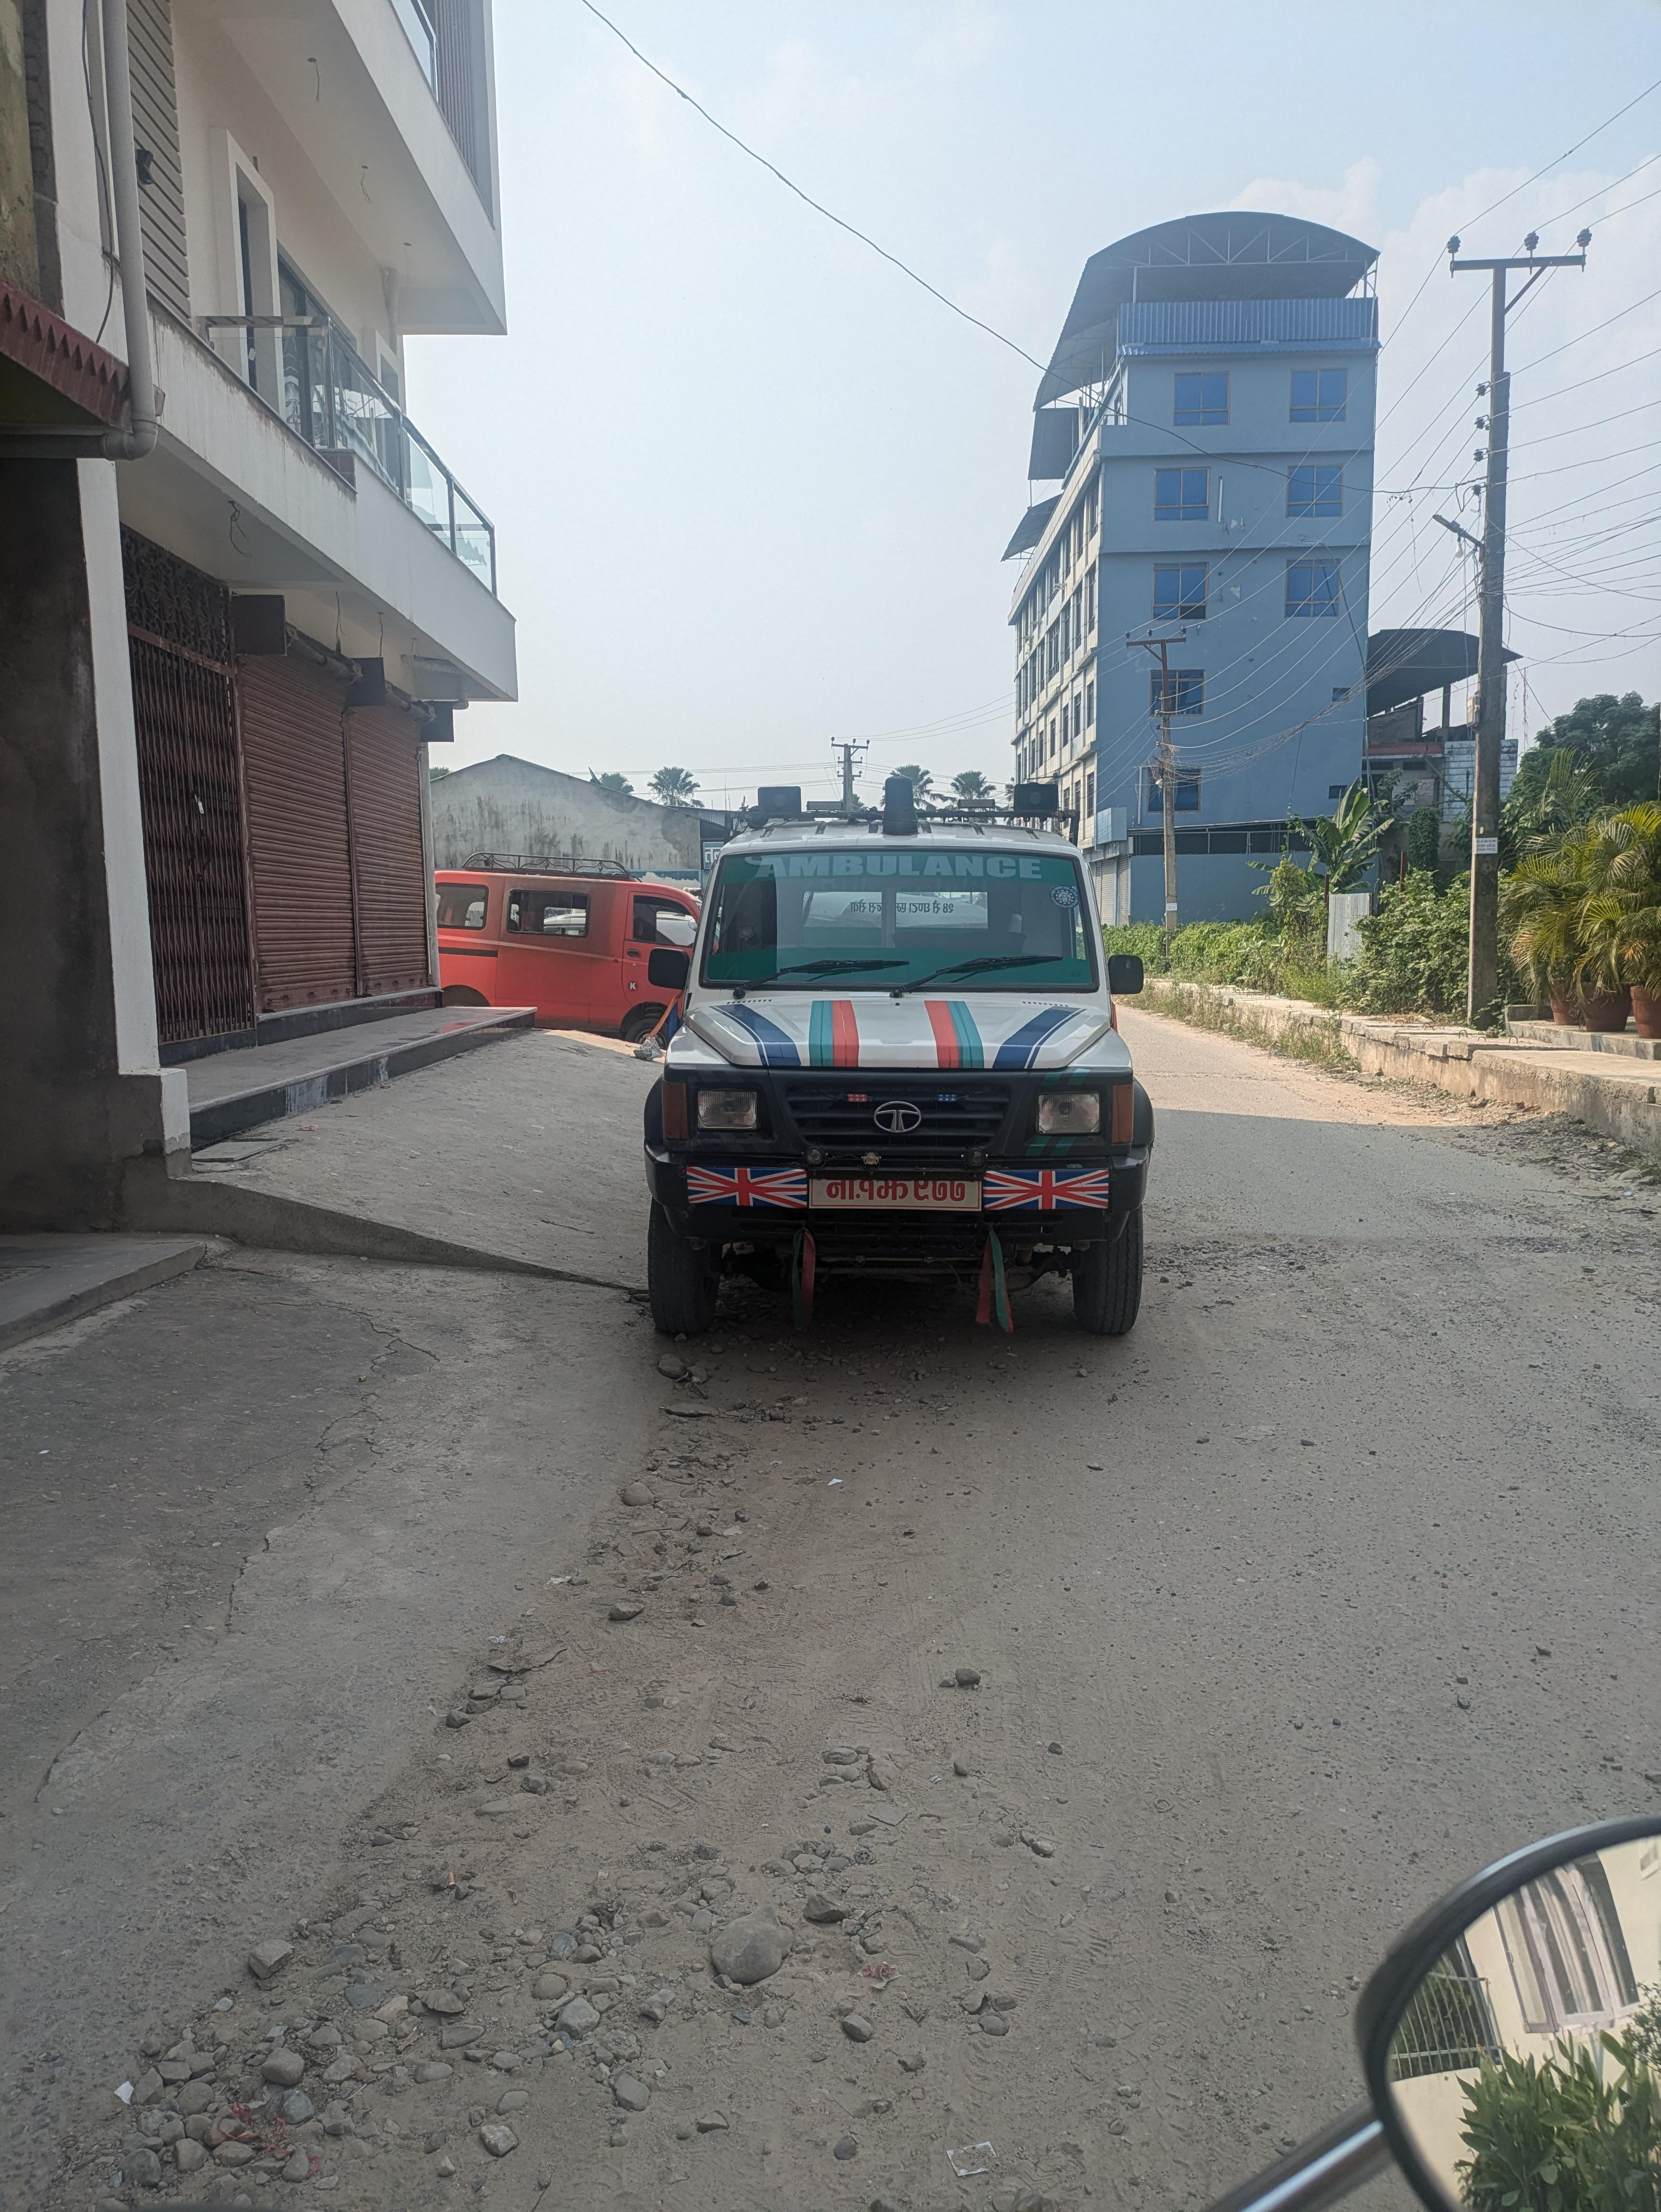ambulance: (632, 768, 1160, 1368)
